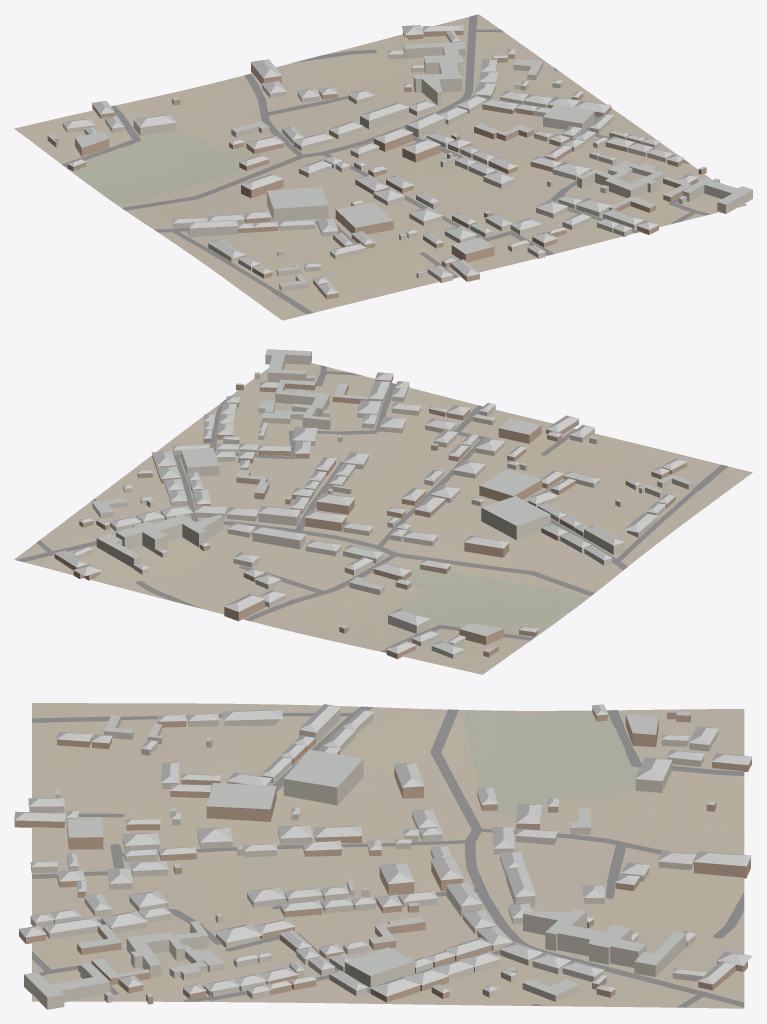
File: bolak_0_9.glb
3 views of the same model, one above another, from view 1: azimuth 30°, elevation 25°; view 2: azimuth 150°, elevation 25°; view 3: azimuth 270°, elevation 25° (orthographic). The views are drawn at different scales.
Parts seen in each view (by area): view 1: Yer_Tuproq-col, Tom_Shifer, Devor_Suvoq-col, Devor_Gisht-col, Yer_Qabr, Yol_Mahalla-col; view 2: Yer_Tuproq-col, Tom_Shifer, Devor_Suvoq-col, Devor_Gisht-col, Yol_Mahalla-col, Yer_Qabr; view 3: Yer_Tuproq-col, Tom_Shifer, Devor_Suvoq-col, Yer_Qabr, Devor_Gisht-col, Yol_Mahalla-col.
Boxes of the visible parts, x1,y1,x2,y2 form: Yer_Tuproq-col: [14, 14, 746, 320]; Tom_Shifer: [48, 25, 752, 294]; Devor_Suvoq-col: [62, 33, 752, 291]; Devor_Gisht-col: [47, 30, 706, 299]; Yer_Qabr: [66, 132, 271, 205]; Yol_Mahalla-col: [62, 14, 710, 314]; Yer_Tuproq-col: [14, 363, 752, 674]; Tom_Shifer: [54, 349, 692, 654]; Devor_Suvoq-col: [74, 352, 693, 658]; Devor_Gisht-col: [54, 375, 687, 658]; Yol_Mahalla-col: [16, 365, 727, 652]; Yer_Qabr: [400, 564, 587, 637]; Yer_Tuproq-col: [32, 703, 744, 1008]; Tom_Shifer: [14, 704, 752, 997]; Devor_Suvoq-col: [24, 708, 718, 1009]; Yer_Qabr: [463, 710, 637, 814]; Devor_Gisht-col: [14, 708, 751, 1004]; Yol_Mahalla-col: [32, 706, 744, 1007].
Size of what is drawn, in the model's own units: 410 by 16.04 by 415.
